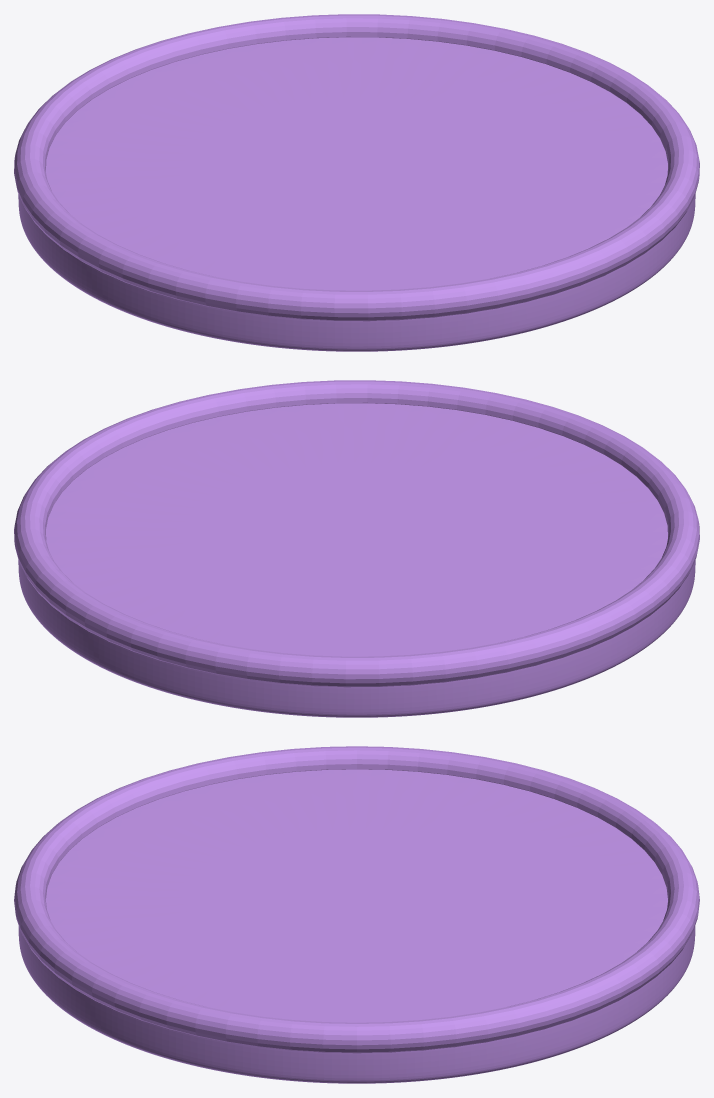
File: Toy_SpawnPad_Violet_Hi.fbx
The picture shows the model from 3 angles, top to bottom: view 1: azimuth 30°, elevation 25°; view 2: azimuth 150°, elevation 25°; view 3: azimuth 270°, elevation 25°; orthographic projection.
Parts seen in each view (by area): view 1: Cylinder, Torus; view 2: Cylinder, Torus; view 3: Cylinder, Torus.
Boxes of the visible parts, x1=… form: Cylinder: x1=18, y1=37, x2=695, y2=351; Torus: x1=14, y1=14, x2=699, y2=321; Cylinder: x1=18, y1=403, x2=695, y2=717; Torus: x1=14, y1=380, x2=699, y2=687; Cylinder: x1=18, y1=769, x2=695, y2=1083; Torus: x1=14, y1=746, x2=699, y2=1053.
Size of the model in its own units: 1.72 by 0.16 by 1.72.
